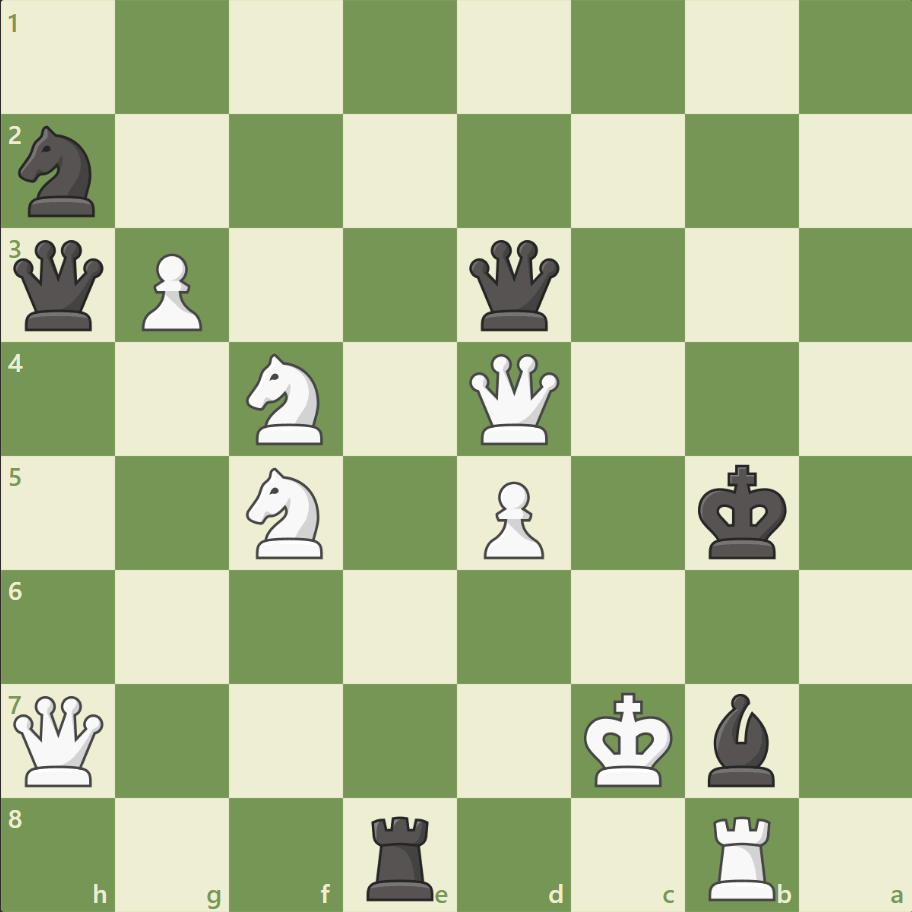K: (579, 685, 679, 793)
N: (238, 461, 335, 564), (238, 348, 335, 450)
P: (474, 473, 549, 564), (133, 246, 208, 337)
Q: (464, 349, 563, 449), (10, 690, 109, 789)
R: (700, 806, 783, 904)
b: (698, 687, 782, 790)
k: (692, 458, 792, 566)
n: (11, 121, 108, 223)
q: (464, 236, 563, 335), (10, 236, 109, 335)
r: (360, 806, 442, 904)
